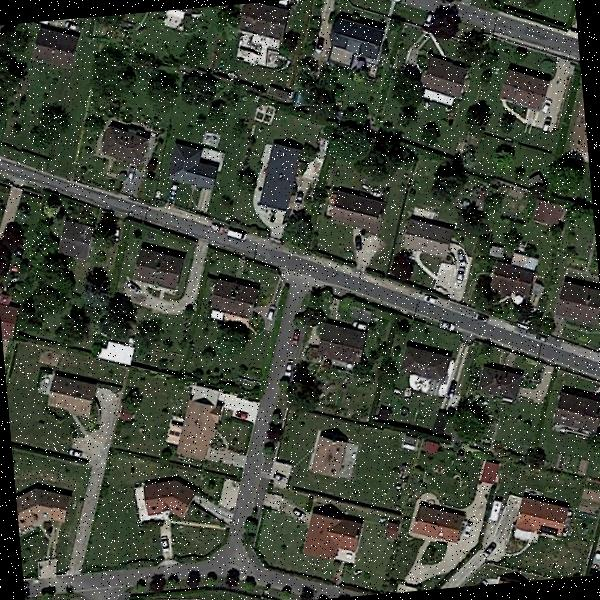Buildings: (256, 131, 310, 226), (299, 506, 356, 570), (129, 244, 190, 302), (240, 0, 290, 70), (512, 498, 578, 550), (132, 474, 201, 520), (15, 480, 69, 534), (166, 140, 220, 194), (41, 372, 104, 416), (95, 126, 156, 171), (331, 15, 385, 65), (404, 506, 468, 546), (173, 402, 222, 454), (424, 54, 476, 99), (317, 324, 371, 366), (481, 355, 524, 407), (554, 283, 600, 328), (400, 339, 450, 380), (396, 220, 448, 258), (557, 393, 600, 435), (329, 192, 380, 227), (33, 25, 75, 66), (504, 71, 545, 109), (209, 284, 263, 312), (490, 266, 540, 294), (311, 438, 348, 470), (56, 227, 94, 255), (0, 293, 17, 342), (540, 205, 558, 219)
